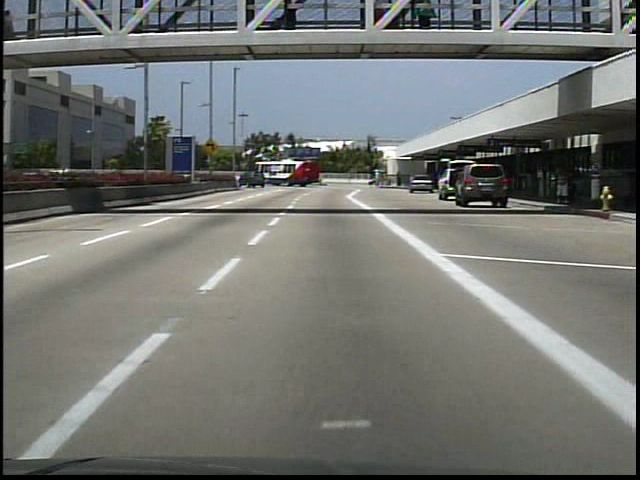car: (455, 161, 513, 214), (408, 176, 435, 197), (441, 165, 457, 200)
strada: (2, 200, 636, 470)
